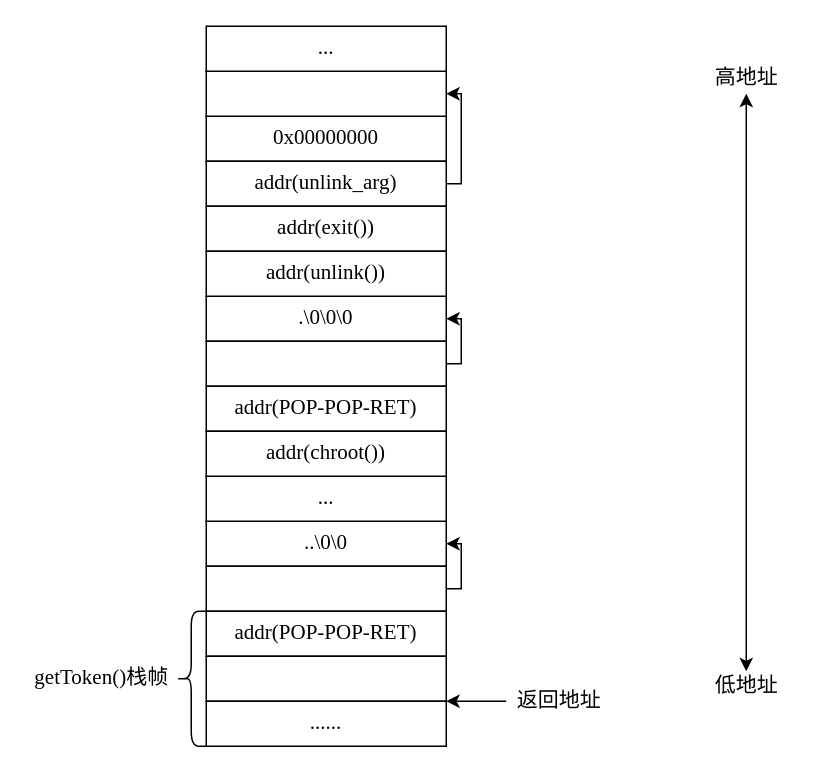
Some shapes in this 816 by 773 pixel diagram are drawn without their labels. The shapes that lost their labels are listed below. From the top down, each one's box as (x1, y1, x2, y2) in pixels, then its label:
(205, 70, 446, 116): /tmp/test.txt\0\0\0
(205, 340, 446, 386): addr(chroot_arg)
(205, 565, 446, 611): addr(chdir_arg)
(205, 655, 446, 701): addr(chdir())
